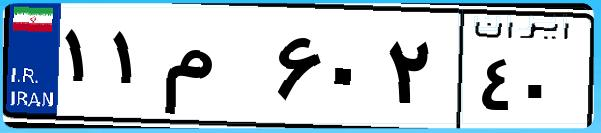0: (330, 28, 385, 110), (525, 38, 570, 115)
1: (57, 26, 110, 100), (110, 28, 158, 98)
2: (385, 28, 445, 110)
4: (475, 38, 525, 113)
6: (270, 28, 330, 110)
م: (158, 20, 270, 120)
